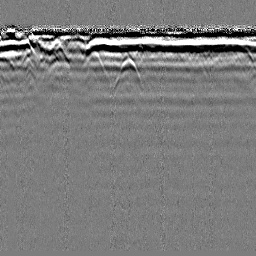cavity: (112, 55, 144, 89)
